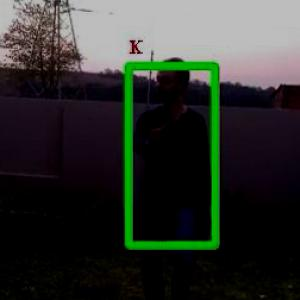takeoff-hand: (140, 111, 178, 158)
